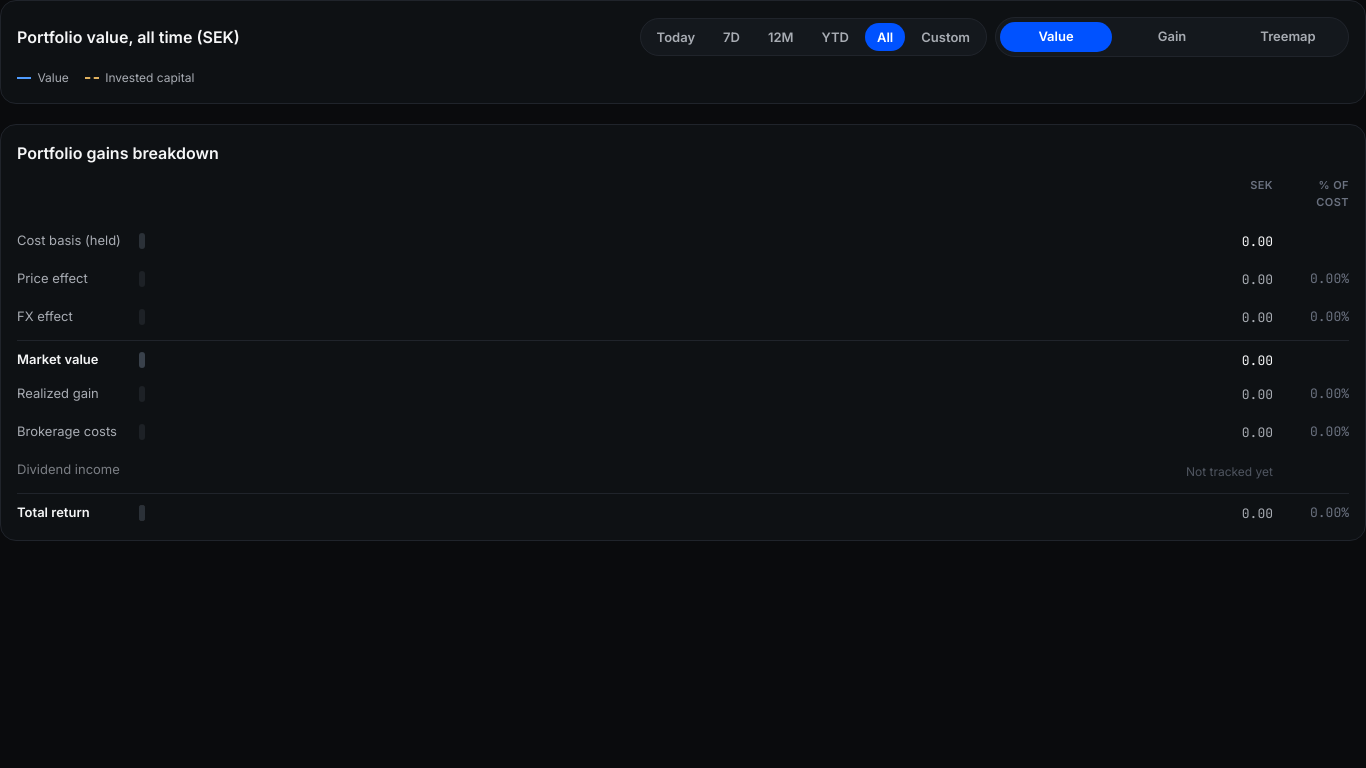
Scenario: Dashboard gain view › explains an unknown opening rather than showing inception gains
Click the button "Gain" at (1172, 37), box x1=1116 y1=22 x2=1228 y2=52
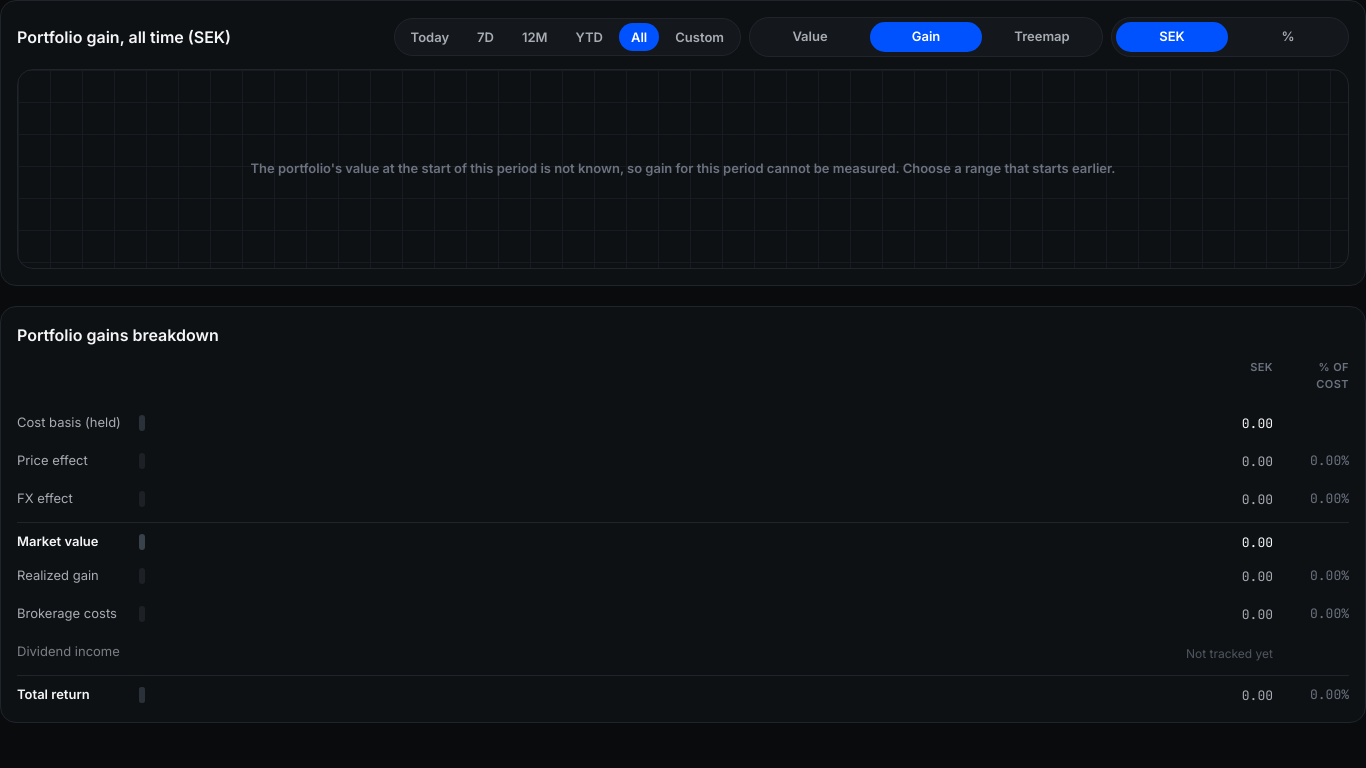
Expected: the text "value at the start of this period is not known" is shown, x1=250 y1=160 x2=1116 y2=176
